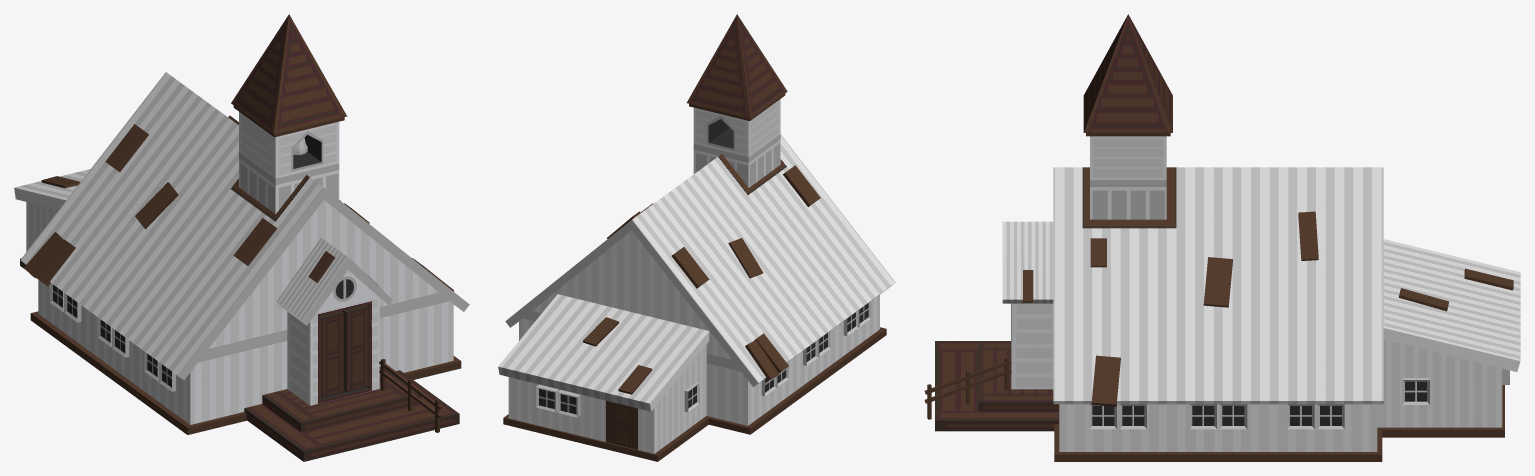
3 renders of one model, left to right at view 1: azimuth 30°, elevation 25°; view 2: azimuth 150°, elevation 25°; view 3: azimuth 270°, elevation 25°, orthographic. The views are drawn at different scales.
Visible parts, largest first — view 1: Chapel, Door, Door1; view 2: Chapel; view 3: Chapel.
Boxes of the visible parts, <box> form: Chapel: <box>14,14,469,461</box>; Door: <box>342,305,368,391</box>; Door1: <box>321,311,344,398</box>; Chapel: <box>498,14,895,461</box>; Chapel: <box>924,14,1520,461</box>.
Bounding box in the file's own units: 728 × 834 × 1191.
1 material, 1 textured.
